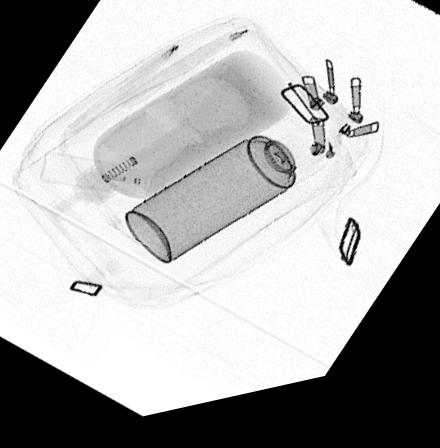Sprayer: (125, 127, 331, 269)
